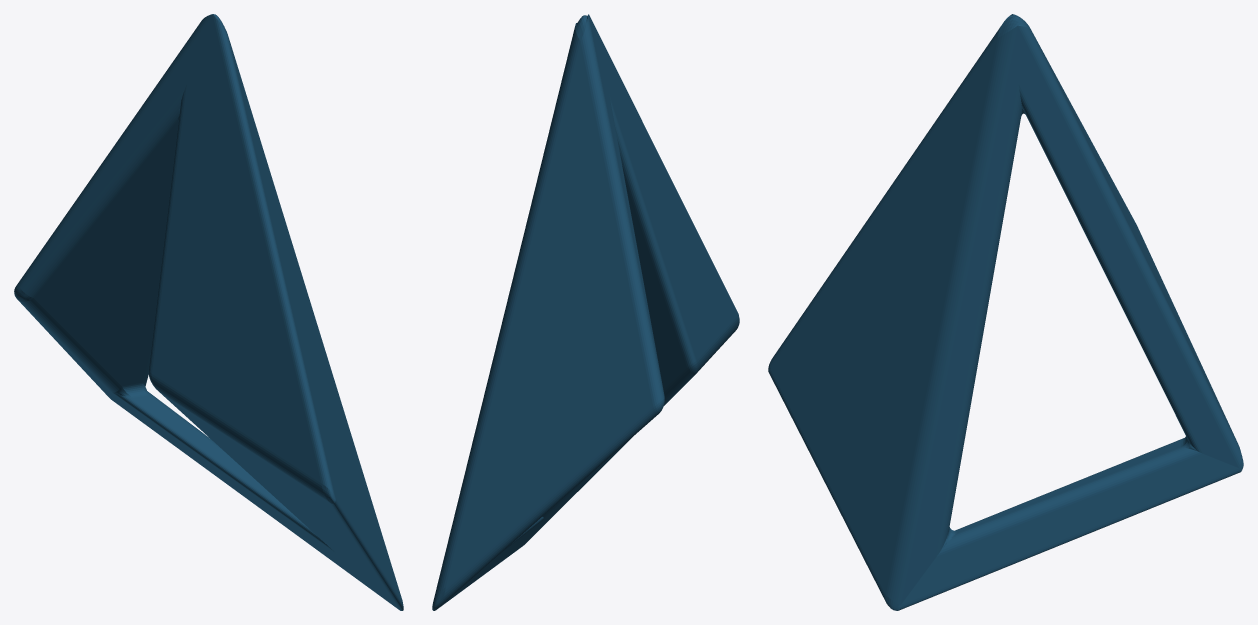
Rendered from prisma.glb.
The picture shows the model from 3 angles, left to right: view 1: azimuth 30°, elevation 25°; view 2: azimuth 150°, elevation 25°; view 3: azimuth 270°, elevation 25°; orthographic projection. The views are drawn at different scales.
Parts seen in each view (by area): view 1: Cube; view 2: Cube; view 3: Cube.
Boxes of the visible parts, x1,y1,x2,y2 form: Cube: (14, 14, 403, 610); Cube: (432, 14, 739, 610); Cube: (768, 14, 1243, 610).
Bounding box in the file's own units: 2.13 × 4.54 × 3.62.
